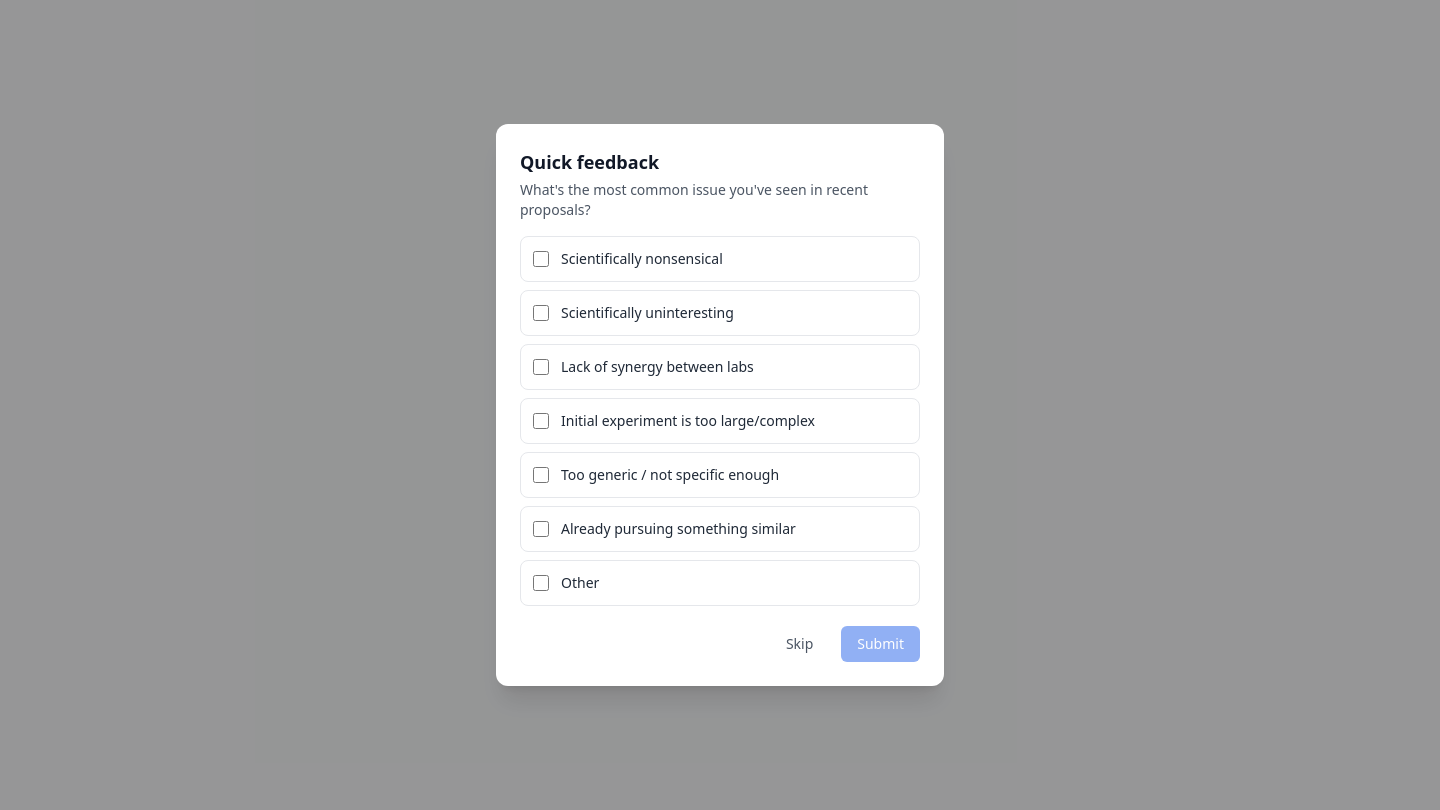
Scenario: SurveyModal › shows free text input when 'Other' is selected
The width and height of the screenshot is (1440, 810).
Expected: the field with placeholder "Tell us more (optional)..." is not shown
Click the text "Other" at (580, 583), box x1=561 y1=573 x2=599 y2=593
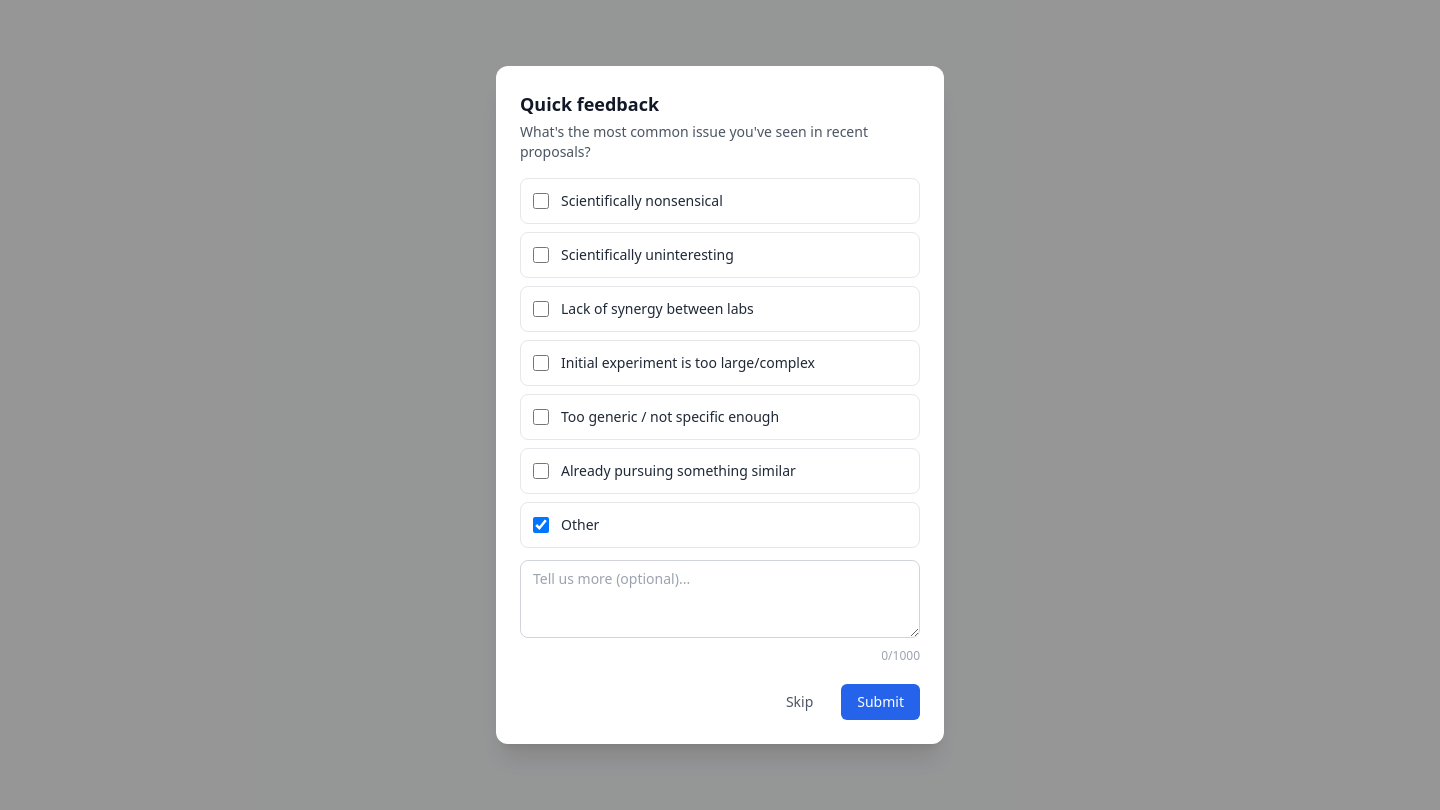
Now the text box with placeholder "Tell us more (optional)..." is shown, box x1=520 y1=560 x2=920 y2=638
